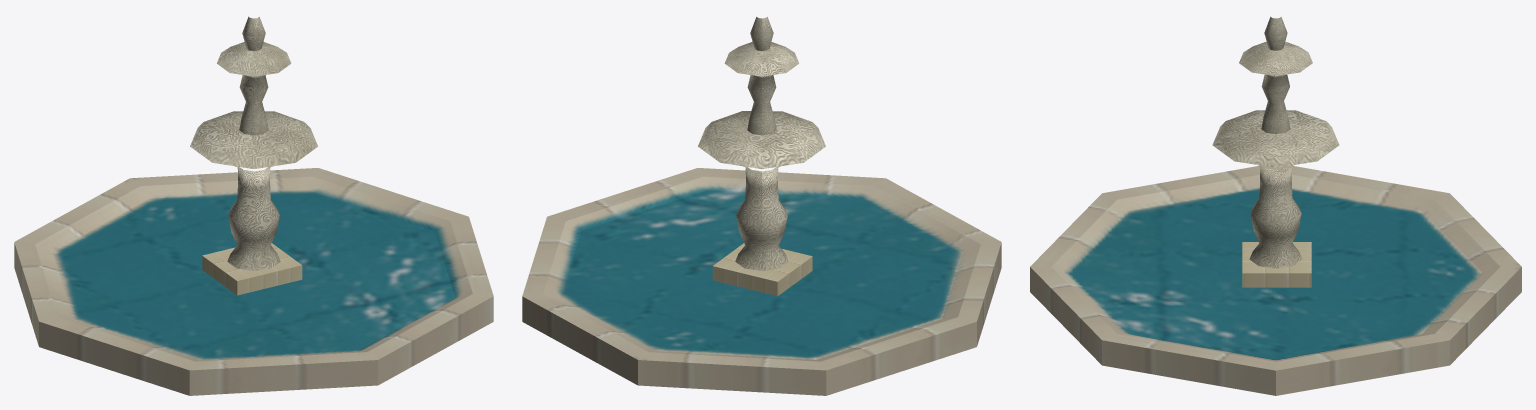
The model's file is fountain.gltf.
3 renders of one model, left to right at view 1: azimuth 30°, elevation 25°; view 2: azimuth 150°, elevation 25°; view 3: azimuth 270°, elevation 25°, orthographic.
Parts seen in each view (by area): view 1: Ground_and_Fountain.3607; view 2: Ground_and_Fountain.3607; view 3: Ground_and_Fountain.3607.
Part boxes in pixels (x1,y1,x2,y2): Ground_and_Fountain.3607: [14, 16, 493, 395]; Ground_and_Fountain.3607: [522, 16, 1001, 395]; Ground_and_Fountain.3607: [1030, 16, 1521, 395].
Bounding box in the file's own units: 3.01 × 1.86 × 3.01.
Materials: 1 (1 with a texture image).
